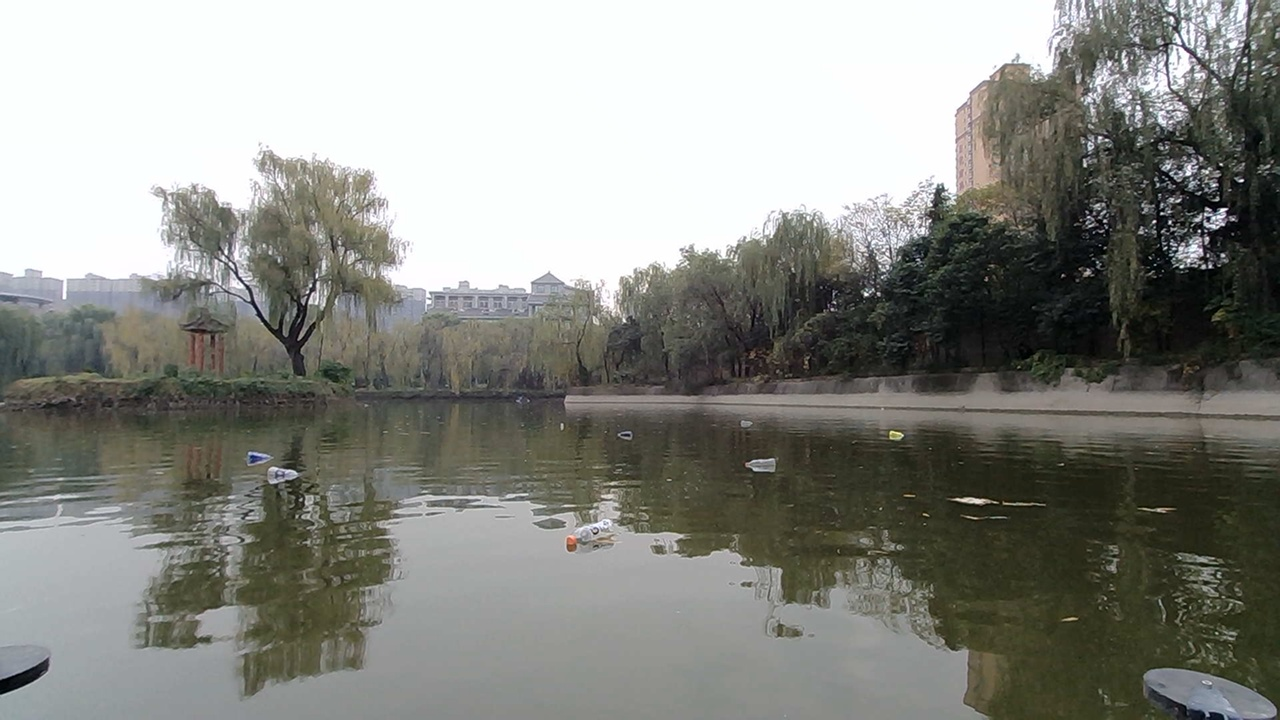bottle: (739, 439, 786, 481), (260, 451, 304, 491), (559, 522, 605, 557), (609, 418, 644, 451), (879, 418, 911, 453), (551, 415, 577, 439), (244, 445, 267, 471)
